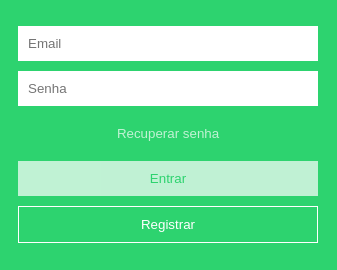
Test case: Login › given user clicks on recover password button › when success › then show success message
Type "valid@email.com" into the field with test id "email" at (168,43), box top-left (18, 26), bottom-right (318, 60)
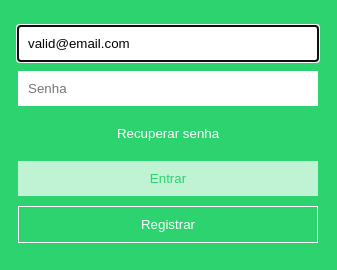
Click the button with test id "recover-password-button" at (168,133), box top-left (18, 116), bottom-right (318, 150)
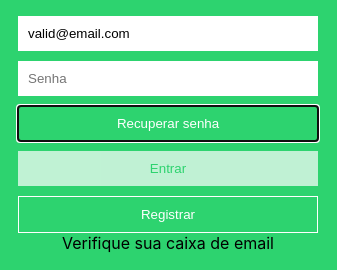
Now the text "Verifique sua caixa de email" is shown, box top-left (62, 232), bottom-right (274, 252)
